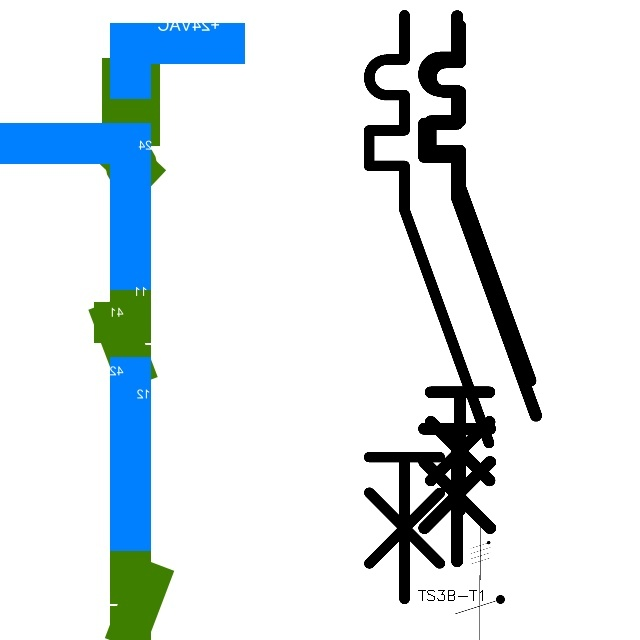interruptor_termomagnetico: (354, 0, 504, 614), (410, 2, 550, 575), (418, 13, 543, 523)
